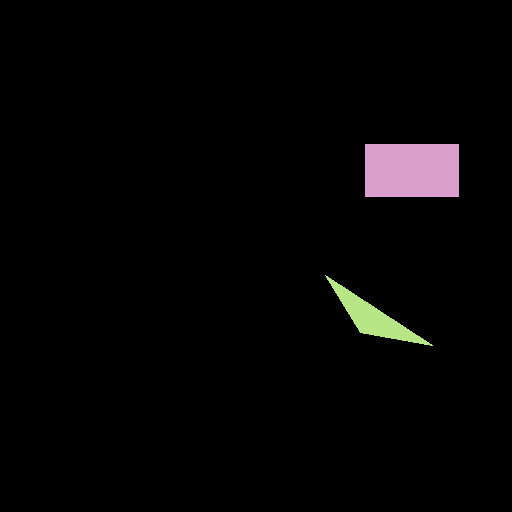rectangle: (365, 144, 458, 196)
triangle: (325, 275, 432, 345)
